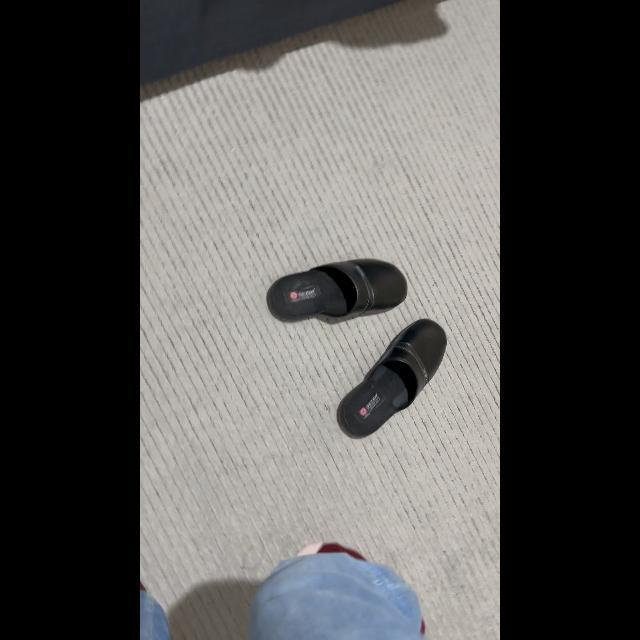slipper: (336, 318, 452, 446), (264, 253, 408, 320)
